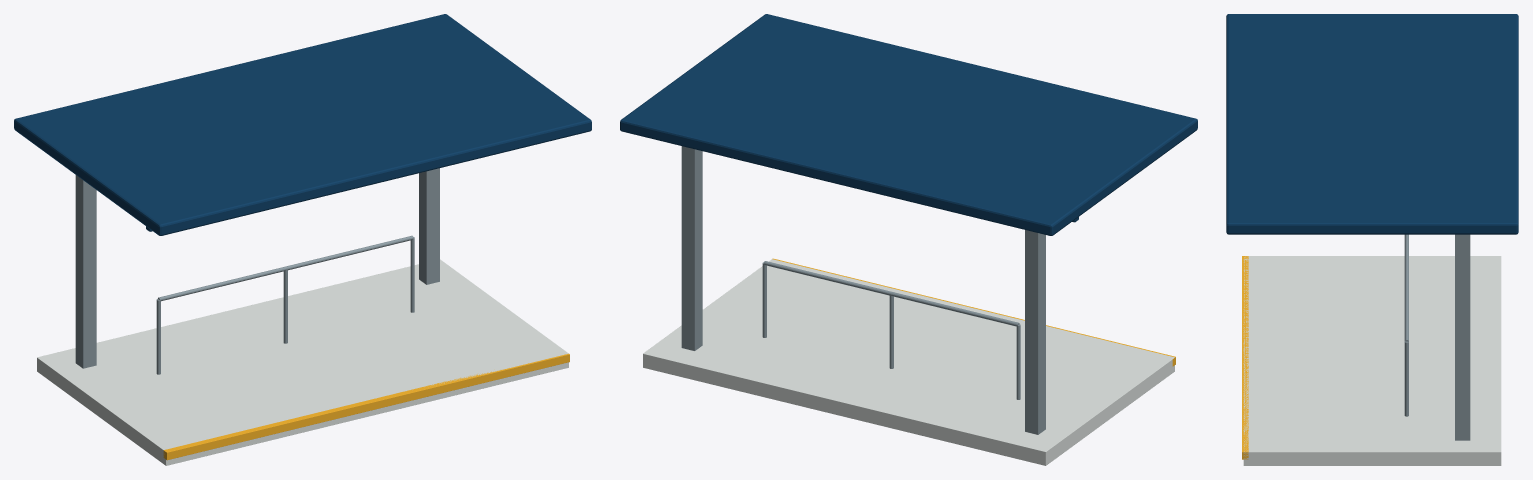
Rendered from edited.glb.
3 renders of one model, left to right at view 1: azimuth 30°, elevation 25°; view 2: azimuth 150°, elevation 25°; view 3: azimuth 270°, elevation 25°, orthographic.
Parts seen in each view (by area): view 1: CANOPY, PLATFORM_Module, KERB_Contrast, COLUMN.001, COLUMN, QUEUE_Rail; view 2: CANOPY, PLATFORM_Module, COLUMN, COLUMN.001, QUEUE_Rail, KERB_Contrast; view 3: CANOPY, PLATFORM_Module, COLUMN, KERB_Contrast, QUEUE_Rail, QUEUE_Post.002.
Boxes of the visible parts, left/top/right/bottom form: CANOPY: left=14, top=14, right=591, bottom=235; PLATFORM_Module: left=37, top=259, right=568, bottom=465; KERB_Contrast: left=163, top=353, right=569, bottom=460; COLUMN.001: left=75, top=175, right=96, bottom=368; COLUMN: left=419, top=168, right=439, bottom=284; QUEUE_Rail: left=158, top=235, right=413, bottom=301; CANOPY: left=620, top=14, right=1197, bottom=235; PLATFORM_Module: left=643, top=259, right=1174, bottom=465; COLUMN: left=681, top=146, right=702, bottom=350; COLUMN.001: left=1025, top=230, right=1045, bottom=434; QUEUE_Rail: left=764, top=261, right=1019, bottom=326; KERB_Contrast: left=772, top=258, right=1175, bottom=366; CANOPY: left=1226, top=14, right=1518, bottom=234; PLATFORM_Module: left=1243, top=256, right=1501, bottom=465; COLUMN: left=1455, top=234, right=1470, bottom=440; KERB_Contrast: left=1242, top=256, right=1248, bottom=459; QUEUE_Rail: left=1404, top=234, right=1408, bottom=341; QUEUE_Post.002: left=1404, top=341, right=1408, bottom=416.
Bounding box in the file's own units: 5.8 × 3.21 × 3.4.
